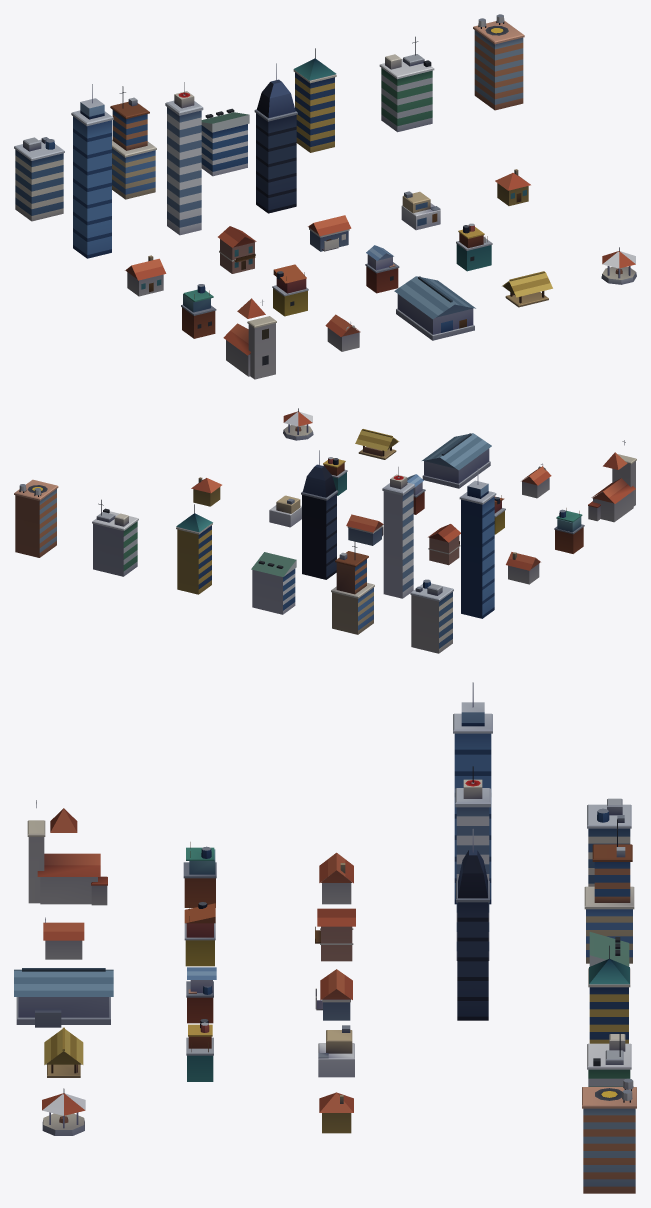
File: urbano.glb
3 views of the same model, one above another, from view 1: azimuth 30°, elevation 25°; view 2: azimuth 150°, elevation 25°; view 3: azimuth 270°, elevation 25° (orthographic). The views are drawn at different scales.
Visible parts, largest first — view 1: torre_a, torre_c, torre_b, edif_f, edif_b, edif_a, edif_e, galpon, edif_d, iglesia_a, edif_c, barrio_b (+11 smaller); view 2: torre_a, torre_c, torre_b, edif_f, edif_b, edif_a, edif_e, galpon, edif_d, edif_c, iglesia_a, barrio_a (+11 smaller); view 3: edif_f, galpon, torre_c, iglesia_a, edif_b, torre_a, edif_d, torre_b, edif_a, edif_e, casa_b, barrio_b (+11 smaller).
Part boxes in pixels (x1=…): torre_a: x1=71, y1=84, x2=113, y2=258; torre_c: x1=254, y1=63, x2=297, y2=213; torre_b: x1=165, y1=82, x2=203, y2=235; edif_f: x1=473, y1=14, x2=524, y2=110; edif_b: x1=110, y1=86, x2=156, y2=199; edif_a: x1=14, y1=137, x2=64, y2=221; edif_e: x1=379, y1=36, x2=434, y2=132; galpon: x1=394, y1=276, x2=475, y2=340; edif_d: x1=293, y1=48, x2=336, y2=152; iglesia_a: x1=223, y1=298, x2=276, y2=379; edif_c: x1=201, y1=108, x2=249, y2=176; barrio_b: x1=272, y1=264, x2=308, y2=316; torre_a: x1=459, y1=468, x2=496, y2=618; torre_c: x1=301, y1=450, x2=338, y2=579; torre_b: x1=382, y1=467, x2=414, y2=598; edif_f: x1=14, y1=479, x2=58, y2=557; edif_b: x1=331, y1=541, x2=374, y2=634; edif_a: x1=410, y1=579, x2=453, y2=653; edif_e: x1=92, y1=499, x2=138, y2=576; galpon: x1=422, y1=433, x2=491, y2=488; edif_d: x1=176, y1=504, x2=212, y2=594; edif_c: x1=251, y1=552, x2=296, y2=614; iglesia_a: x1=588, y1=440, x2=636, y2=522; barrio_a: x1=554, y1=508, x2=584, y2=553; edif_f: x1=582, y1=1078, x2=636, y2=1193; galpon: x1=14, y1=968, x2=113, y2=1027; torre_c: x1=456, y1=828, x2=489, y2=1020; iglesia_a: x1=27, y1=800, x2=107, y2=905; edif_b: x1=584, y1=819, x2=634, y2=963; torre_a: x1=453, y1=682, x2=492, y2=904; edif_d: x1=588, y1=945, x2=630, y2=1043; torre_b: x1=455, y1=766, x2=490, y2=960; edif_a: x1=587, y1=798, x2=631, y2=886; edif_e: x1=587, y1=1033, x2=631, y2=1086; casa_b: x1=315, y1=908, x2=355, y2=961; barrio_b: x1=184, y1=902, x2=215, y2=966.
Size of the model in its own units: 139 by 46 by 119.
